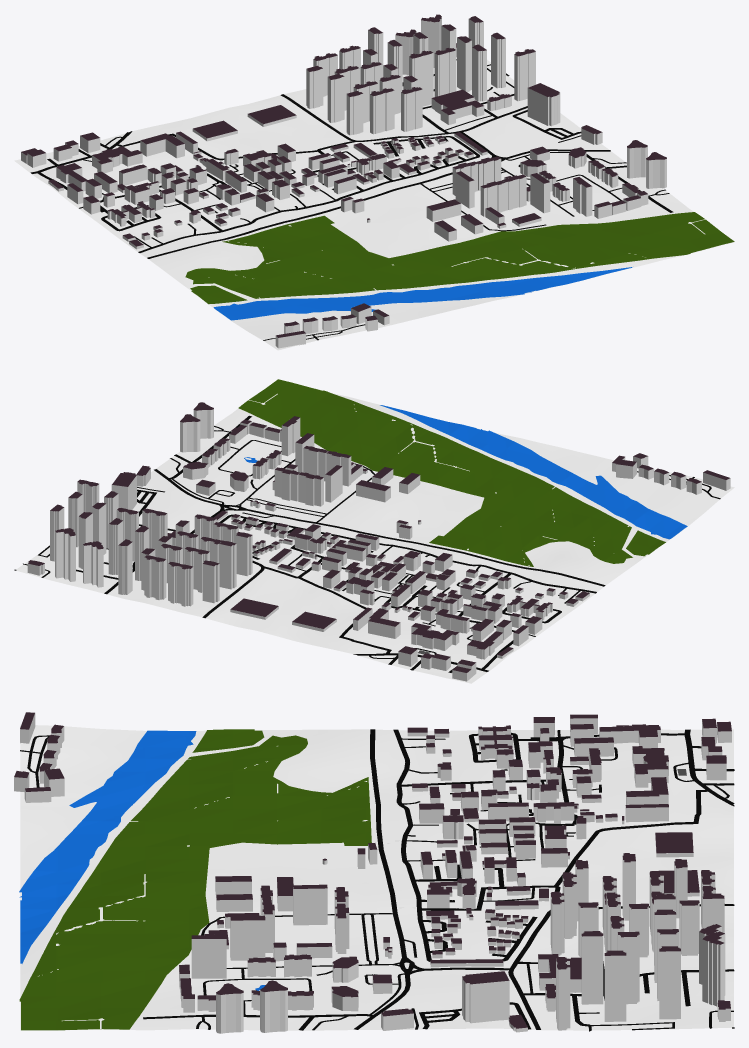
The model's file is tile_6_1.glb.
3 views of the same model, one above another, from view 1: azimuth 30°, elevation 25°; view 2: azimuth 150°, elevation 25°; view 3: azimuth 270°, elevation 25° (orthographic). The views are drawn at different scales.
Parts seen in each view (by area): view 1: ulaanbaatar.osm_buildings_6_1, terrain_6_1, ulaanbaatar.osm_forest_mesh_6_1, ulaanbaatar.osm_water_mesh_6_1, ulaanbaatar.osm_roads_residential_mesh_6_1, ulaanbaatar.osm_roads_service_mesh_6_1, ulaanbaatar.osm_roads_tertiary_mesh_6_1; view 2: ulaanbaatar.osm_buildings_6_1, terrain_6_1, ulaanbaatar.osm_forest_mesh_6_1, ulaanbaatar.osm_water_mesh_6_1, ulaanbaatar.osm_roads_residential_mesh_6_1, ulaanbaatar.osm_roads_service_mesh_6_1, ulaanbaatar.osm_roads_tertiary_mesh_6_1; view 3: terrain_6_1, ulaanbaatar.osm_buildings_6_1, ulaanbaatar.osm_forest_mesh_6_1, ulaanbaatar.osm_water_mesh_6_1, ulaanbaatar.osm_roads_residential_mesh_6_1, ulaanbaatar.osm_roads_service_mesh_6_1, ulaanbaatar.osm_roads_tertiary_mesh_6_1.
Part boxes in pixels (x1,y1,x2,y2): ulaanbaatar.osm_buildings_6_1: [21, 14, 666, 348]; terrain_6_1: [14, 57, 734, 350]; ulaanbaatar.osm_forest_mesh_6_1: [185, 212, 734, 304]; ulaanbaatar.osm_water_mesh_6_1: [213, 267, 632, 320]; ulaanbaatar.osm_roads_residential_mesh_6_1: [36, 74, 673, 252]; ulaanbaatar.osm_roads_service_mesh_6_1: [79, 59, 669, 340]; ulaanbaatar.osm_roads_tertiary_mesh_6_1: [78, 149, 610, 258]; ulaanbaatar.osm_buildings_6_1: [27, 402, 730, 681]; terrain_6_1: [16, 393, 734, 683]; ulaanbaatar.osm_forest_mesh_6_1: [238, 379, 665, 566]; ulaanbaatar.osm_water_mesh_6_1: [244, 405, 687, 539]; ulaanbaatar.osm_roads_residential_mesh_6_1: [76, 415, 596, 672]; ulaanbaatar.osm_roads_service_mesh_6_1: [14, 426, 720, 658]; ulaanbaatar.osm_roads_tertiary_mesh_6_1: [154, 469, 605, 670]; terrain_6_1: [20, 724, 733, 1030]; ulaanbaatar.osm_buildings_6_1: [14, 712, 731, 1033]; ulaanbaatar.osm_forest_mesh_6_1: [19, 729, 371, 1030]; ulaanbaatar.osm_water_mesh_6_1: [19, 730, 265, 990]; ulaanbaatar.osm_roads_residential_mesh_6_1: [143, 729, 734, 1030]; ulaanbaatar.osm_roads_service_mesh_6_1: [20, 730, 734, 1031]; ulaanbaatar.osm_roads_tertiary_mesh_6_1: [354, 729, 734, 1029].
Size of the model in its own units: 1014 by 111 by 1010.
